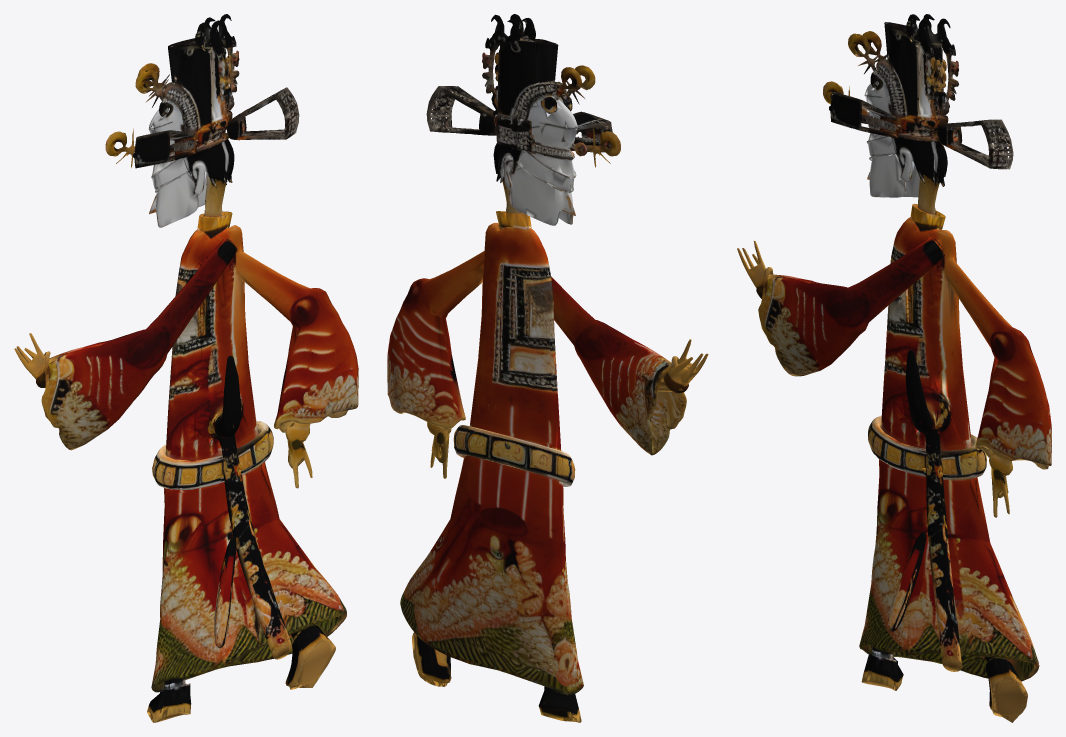
The model's file is shadow-finished.web.glb.
3 renders of one model, left to right at view 1: azimuth 30°, elevation 25°; view 2: azimuth 150°, elevation 25°; view 3: azimuth 330°, elevation 25°, orthographic. The views are drawn at different scales.
Visible parts, largest first — view 1: material; view 2: material; view 3: material.
Boxes of the visible parts, x1,y1,x2,y2 form: material: (14, 14, 358, 722); material: (387, 14, 708, 722); material: (737, 14, 1051, 722).
Size of the model in its own units: 0.5669 by 1.12 by 0.0963.
Materials: 1 (1 with a texture image).
